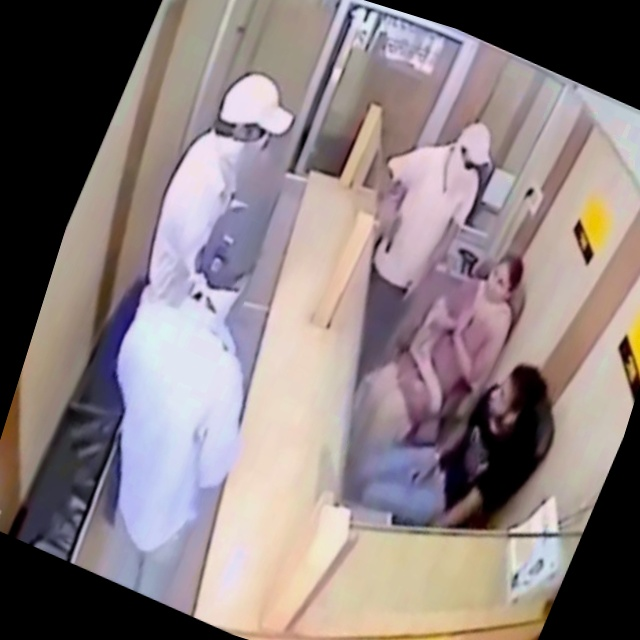gun: (376, 210, 410, 260)
